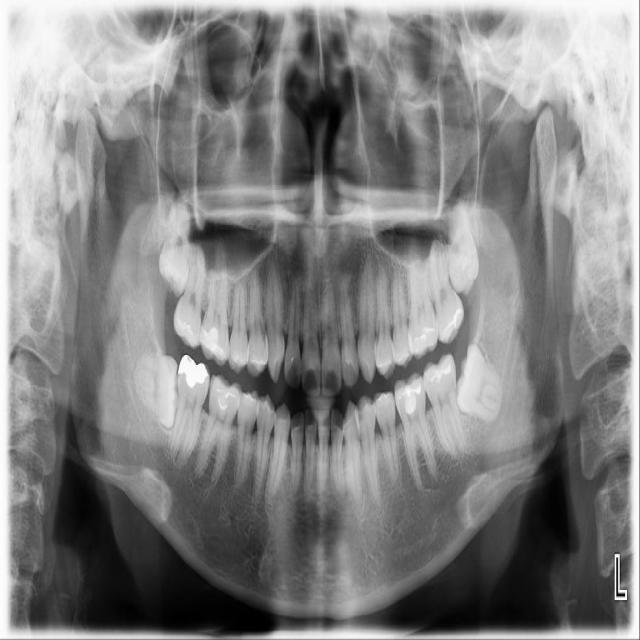3M ESPE Implant: (158, 198, 193, 297)
52: (160, 295, 213, 353), (413, 350, 469, 403), (425, 290, 475, 347), (168, 353, 217, 407), (391, 371, 432, 424), (196, 310, 232, 369), (407, 302, 440, 360), (203, 374, 244, 420)
73: (616, 604, 624, 614)
BioHorizons Implant: (422, 231, 468, 345)
BioLife Implant: (448, 202, 481, 296)
Biomet 3i Implant: (450, 343, 513, 424)
Blue Sky Bio Implant: (419, 352, 467, 459)
Caries: (172, 240, 208, 350)
Implant: (168, 353, 212, 468)
Keystone Dental Implant: (130, 353, 182, 430)
